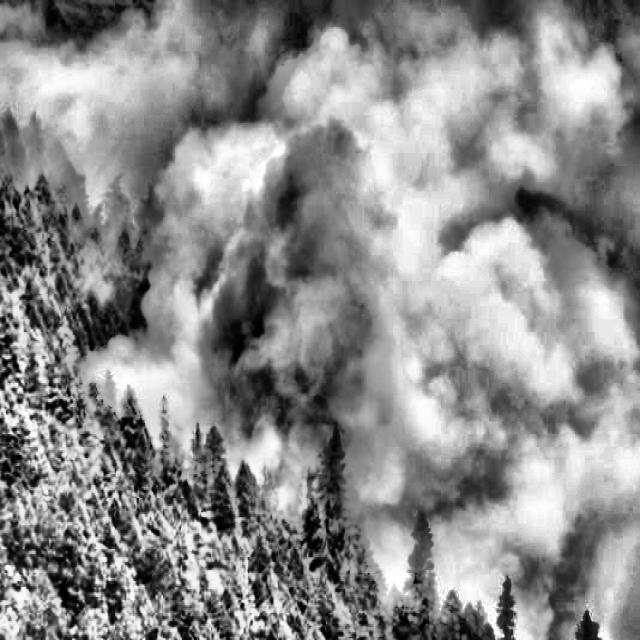fire: (241, 374, 394, 554)
